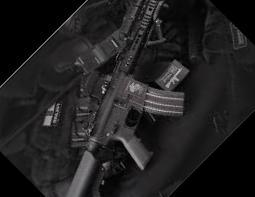larga: (62, 0, 186, 197)
